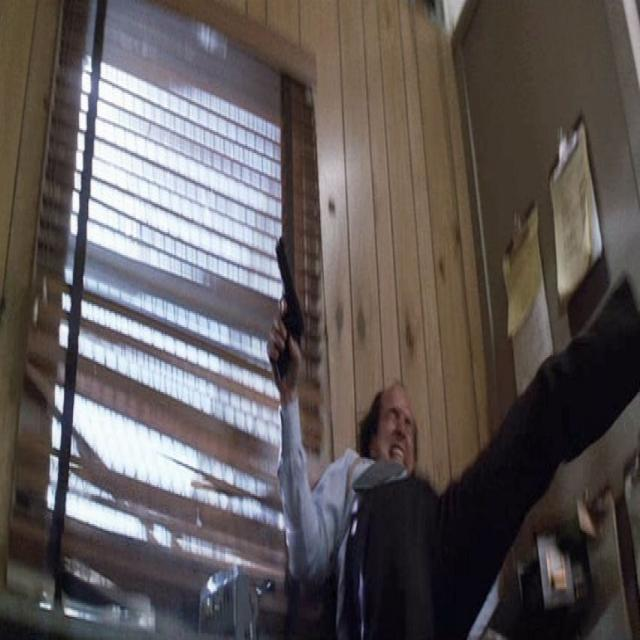gun-knife-thesis - v11 Yolov5 augmented: (261, 218, 300, 394)
